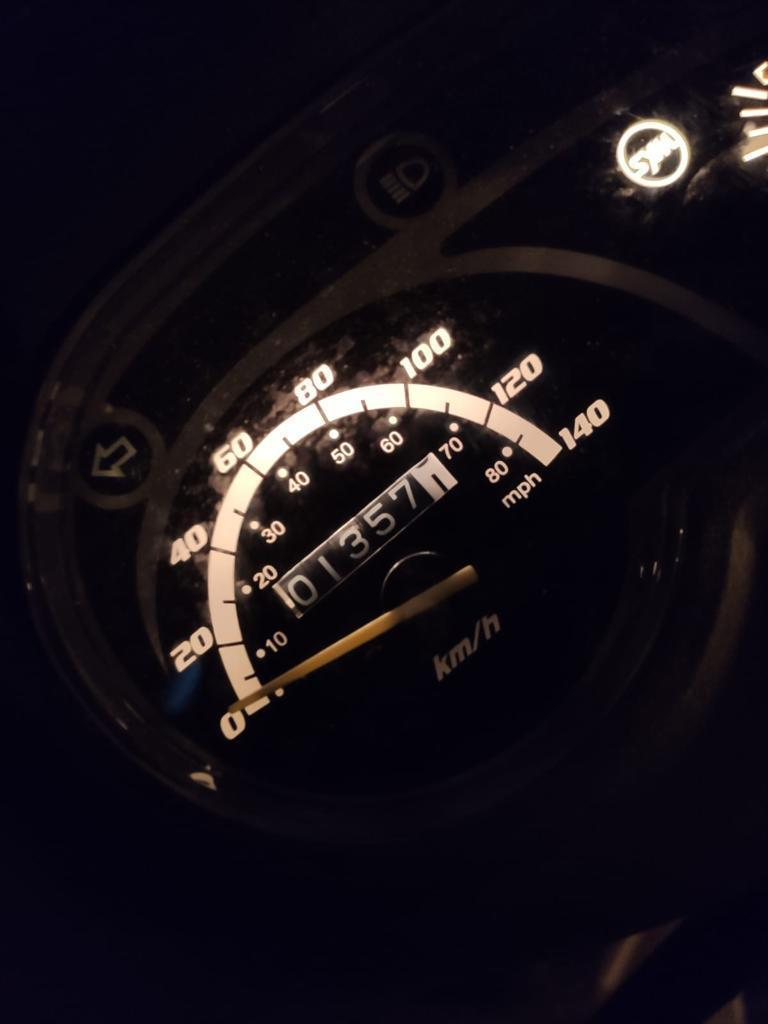0: (286, 574, 319, 607), (270, 519, 287, 536), (261, 564, 279, 580), (295, 470, 310, 486)
1: (316, 554, 342, 583), (430, 472, 451, 495)
3: (338, 528, 370, 559)
4: (287, 478, 301, 494)
5: (362, 501, 396, 536), (330, 448, 345, 464)
7: (388, 479, 417, 510)
odometer: (269, 449, 459, 622)
